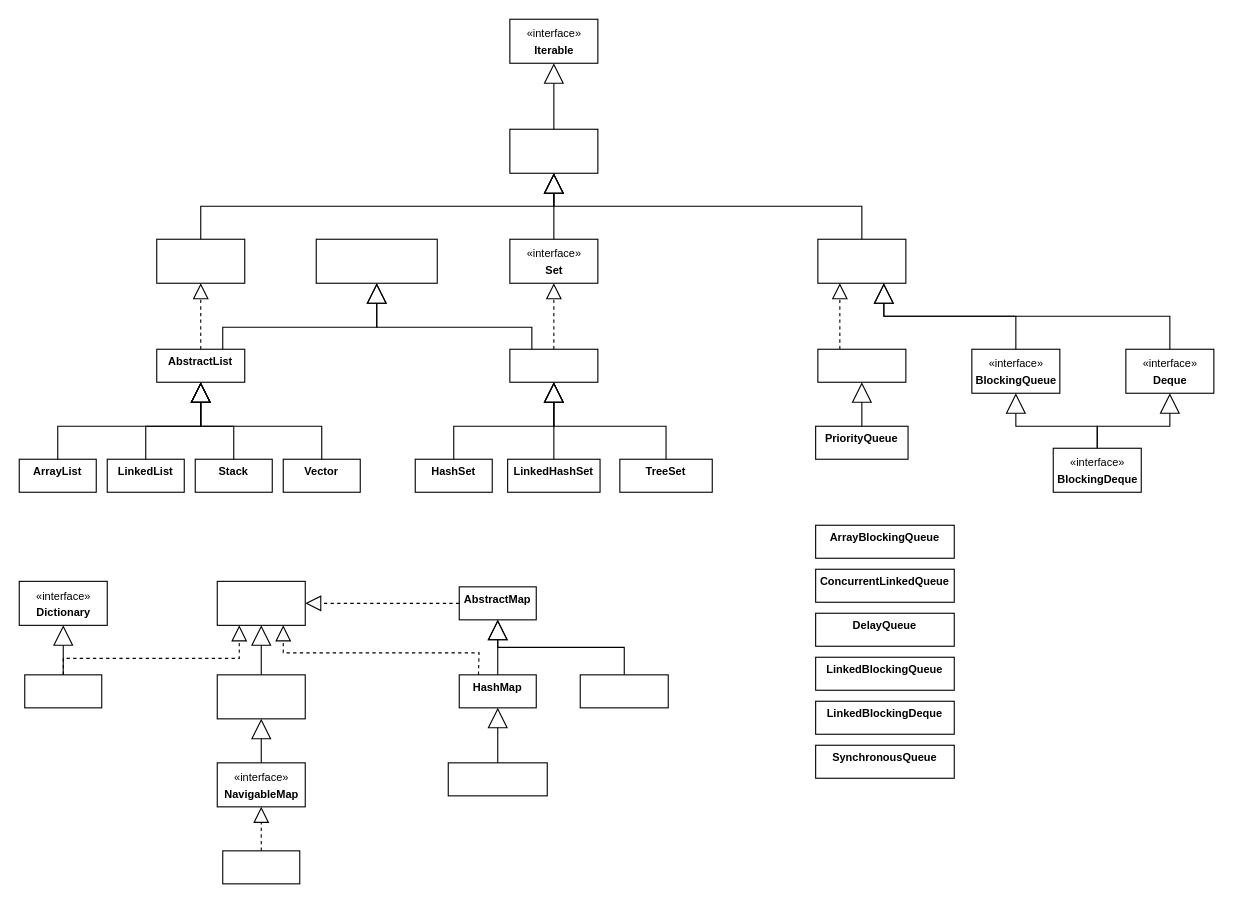
Image size: 1233x903. Some labels were removed from this diagram. The shapes that lost their labels are listed below. From the top down, each one's centre as x and y in pixels, then its label:
At pixel 553 150: "«interface» Collection".
At pixel 200 260: "«interface» List".
At pixel 376 260: "AbstractCollection".
At pixel 861 260: "«interface» Queue".
At pixel 553 365: "AbstractSet".
At pixel 861 365: "AbstractQueue".
At pixel 260 602: "«interface» Map".
At pixel 63 691: "HashTable".
At pixel 260 696: "«interface» SortedMap".
At pixel 623 691: "WeakHashMap".
At pixel 497 779: "LinkedHashMap".
At pixel 261 867: "TreeMap".
